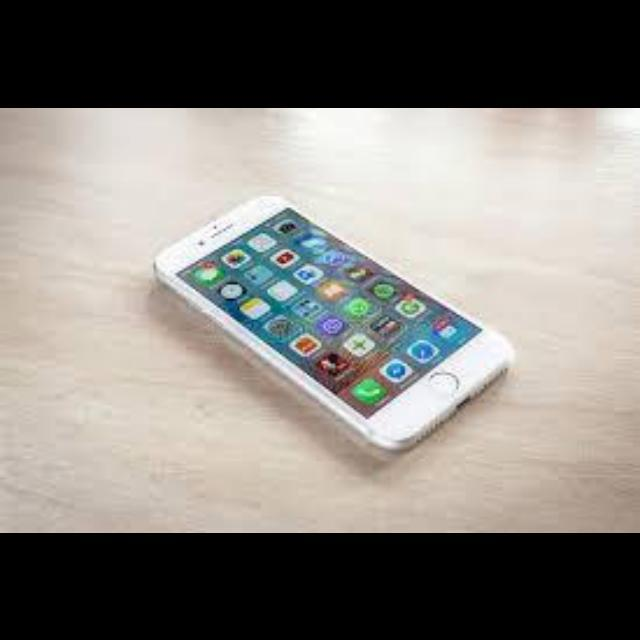PhoneUse: (149, 188, 516, 454)
